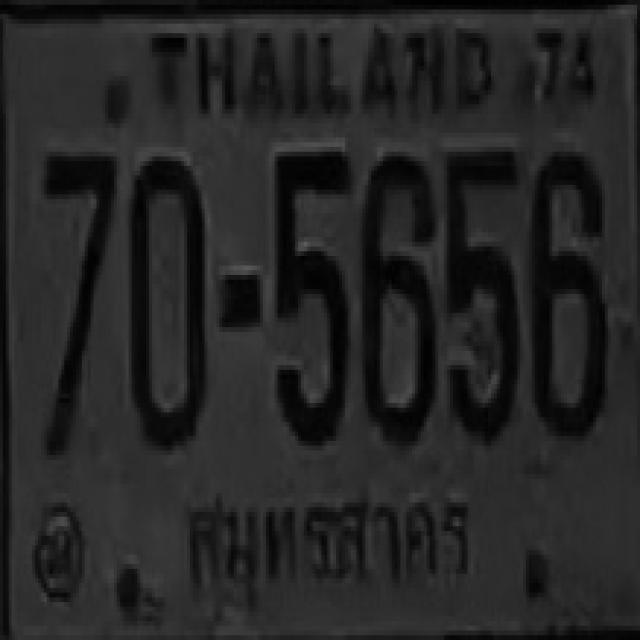0: (128, 152, 204, 446)
5: (272, 147, 348, 441), (444, 144, 517, 438)
6: (529, 147, 605, 436), (360, 150, 432, 443)
7: (41, 149, 114, 453), (41, 150, 114, 353)
SamutSakhon: (164, 464, 482, 602)
